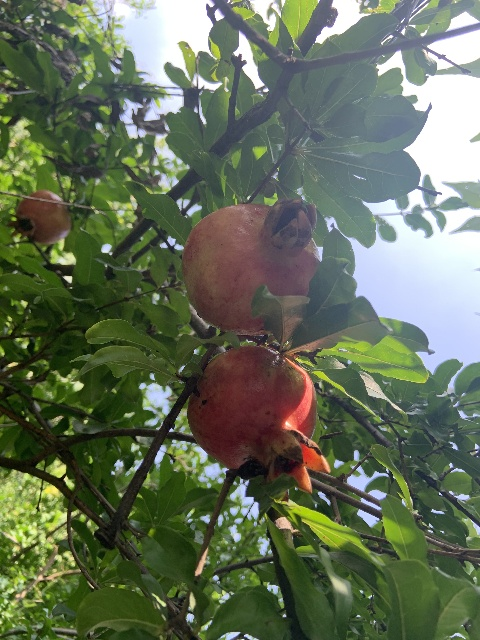ripe: (187, 345, 329, 496), (181, 198, 320, 337), (12, 190, 70, 244)
